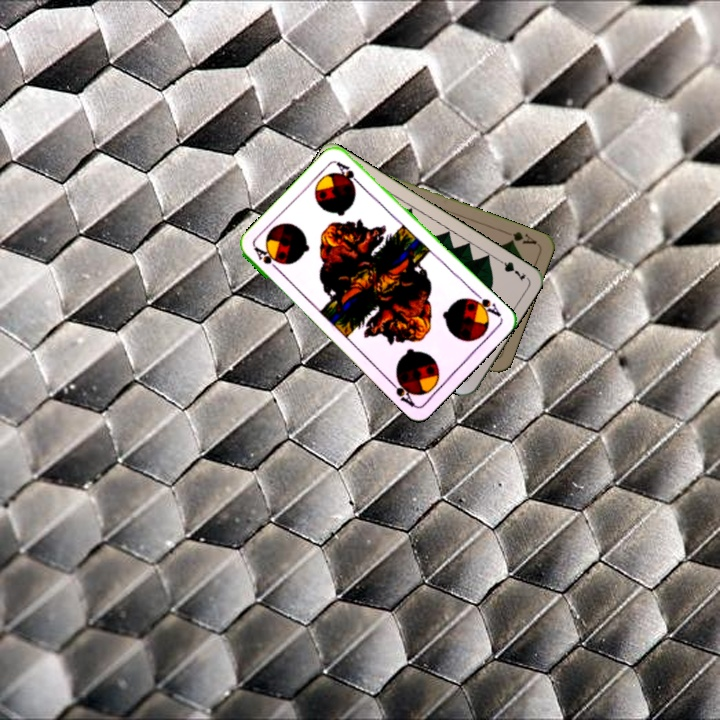G7: (492, 254, 528, 284)
GA: (500, 227, 539, 247)
SA: (466, 288, 504, 320), (250, 243, 283, 275)
